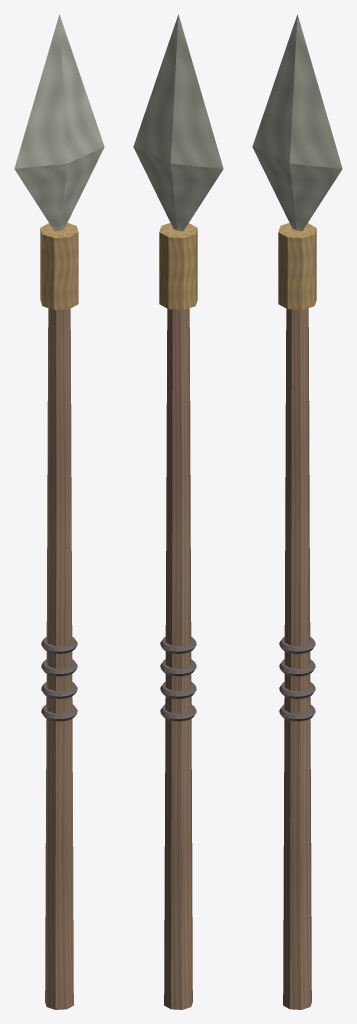
Rendered from lantern-watch-leaf-head-watch-spear__93.glb.
3 renders of one model, left to right at view 1: azimuth 30°, elevation 25°; view 2: azimuth 150°, elevation 25°; view 3: azimuth 330°, elevation 25°, orthographic.
Parts seen in each view (by area): view 1: lantern-watch-watch-spear; view 2: lantern-watch-watch-spear; view 3: lantern-watch-watch-spear.
Boxes of the visible parts, bbox=[...] form: lantern-watch-watch-spear: bbox=[14, 14, 104, 1009]; lantern-watch-watch-spear: bbox=[133, 14, 223, 1009]; lantern-watch-watch-spear: bbox=[252, 14, 342, 1009].
Bounding box in the file's own units: 0.21 × 2.2 × 0.08.
4 materials, 4 textured.
